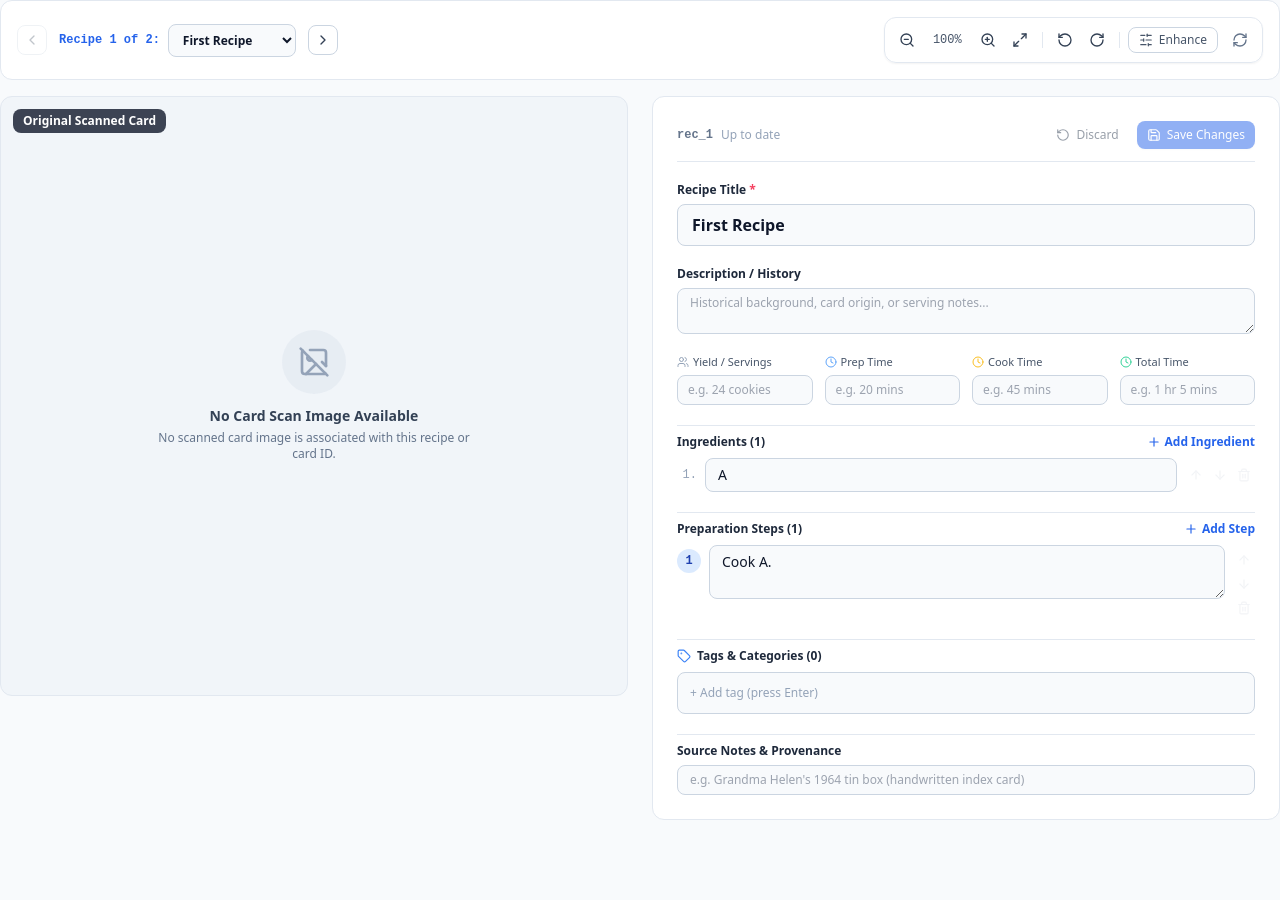
Test case: RecipeBoxer Frontend E2E Platform Suite (Tiers 1–4) › Tier 1: Feature Coverage › T1.F3.2: navigates between recipes and indicates total recipe count
Check: the text "Recipe 1 of 2:" is shown, box top-left (59, 32), bottom-right (160, 48)
Click the button titled "Next Recipe" at (323, 40), box top-left (308, 25), bottom-right (338, 55)
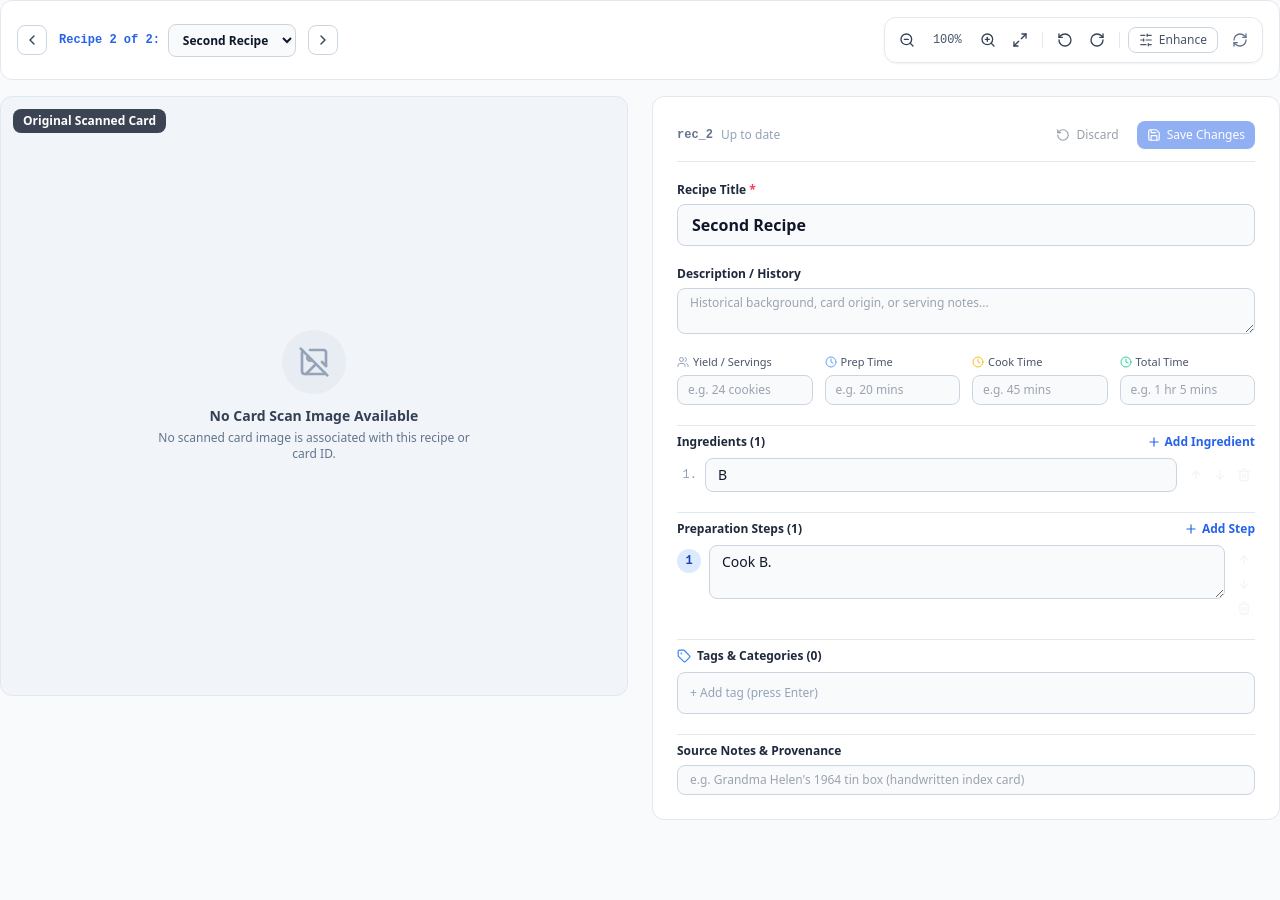
Check: the text "Recipe 2 of 2:" is shown, box top-left (59, 32), bottom-right (160, 48)
